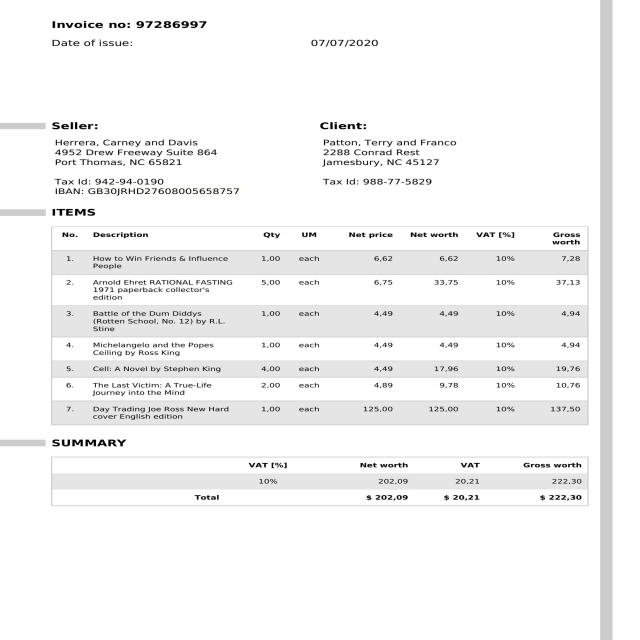customer_address: (320, 148, 443, 171)
customer_name: (323, 136, 458, 148)
invoice_date: (306, 37, 382, 49)
invoice_number: (133, 16, 230, 35)
invoice_subtotal: (353, 491, 421, 505)
invoice_total: (535, 493, 584, 504)
item_description: (83, 252, 231, 428)
item_quantity: (252, 253, 289, 421)
item_total_price: (422, 252, 472, 419)
item_unit_price: (359, 252, 401, 422)
supplier_address: (55, 148, 221, 172)
supplier_name: (53, 137, 210, 147)
tax_amount: (441, 490, 484, 504)
tax_rate: (251, 473, 282, 488)
